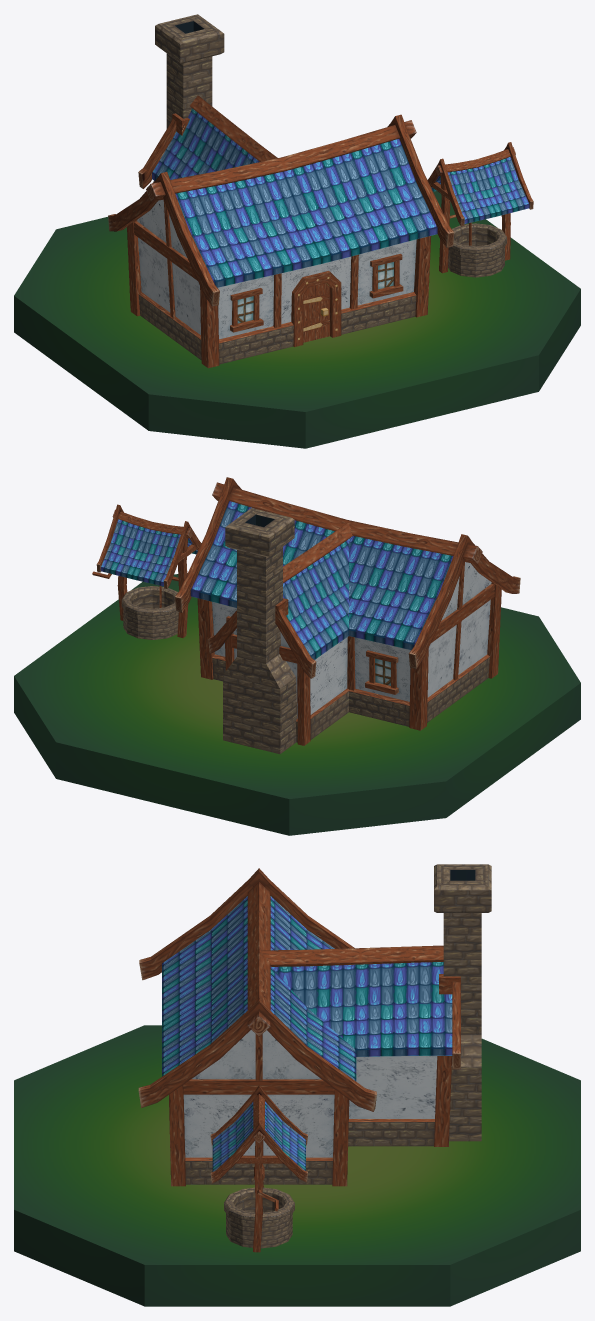
Rendered from building_3.glb.
3 renders of one model, top to bottom at view 1: azimuth 30°, elevation 25°; view 2: azimuth 150°, elevation 25°; view 3: azimuth 270°, elevation 25°, orthographic. The views are drawn at different scales.
Visible parts, largest first — view 1: pillars.001, Plane, pillars.002; view 2: Plane, pillars.001, pillars.002; view 3: Plane, pillars.001, pillars.002.
Boxes of the visible parts, bbox=[...] form: pillars.001: bbox=[108, 14, 454, 368]; Plane: bbox=[14, 191, 580, 448]; pillars.002: bbox=[427, 142, 533, 277]; Plane: bbox=[14, 573, 580, 835]; pillars.001: bbox=[175, 477, 520, 753]; pillars.002: bbox=[92, 504, 201, 639]; Plane: bbox=[14, 1025, 580, 1306]; pillars.001: bbox=[138, 864, 491, 1186]; pillars.002: bbox=[210, 1085, 307, 1252].
Size of the model in its own units: 1059 by 601 by 1059.
Materials: 2 (2 with a texture image).
